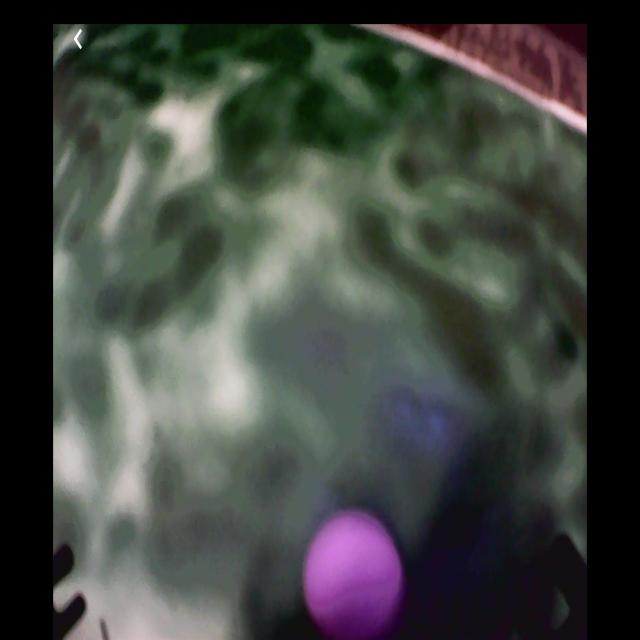ball: (305, 510, 406, 640)
